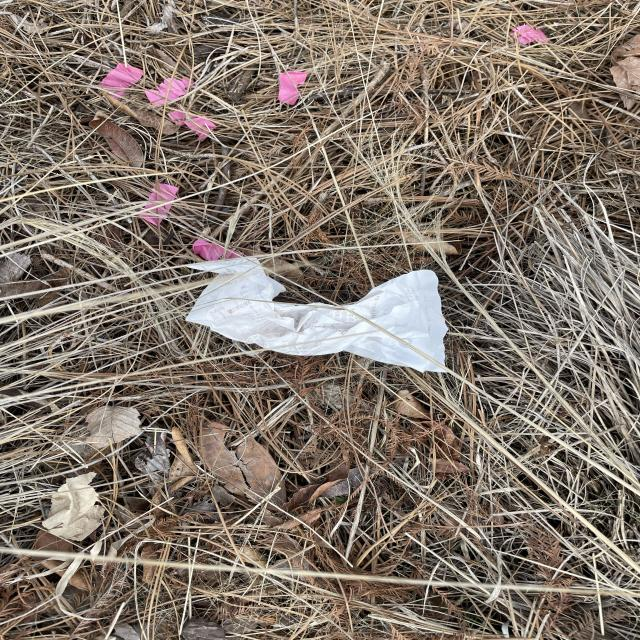paper: (168, 240, 472, 386)
trash-zQNu: (165, 243, 466, 387)
